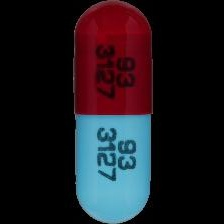68151-3858: (0, 0, 224, 224)
